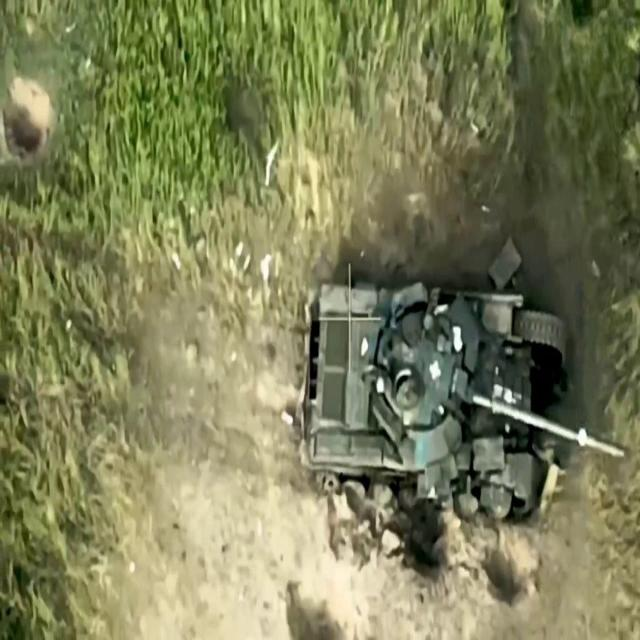MBT: (290, 269, 626, 523)
